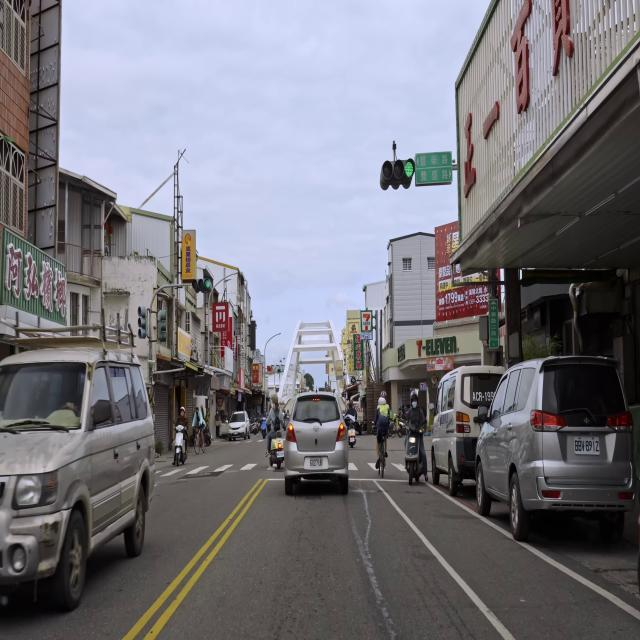green light: (381, 159, 414, 179), (191, 279, 210, 289)
